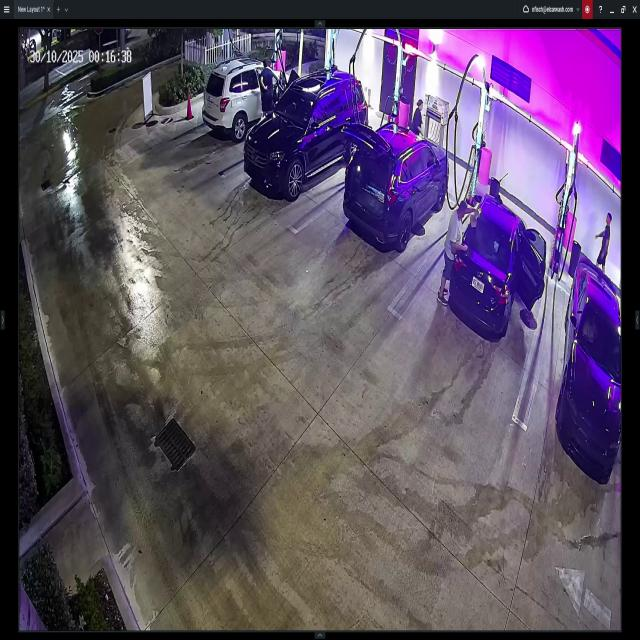Car: (244, 63, 364, 200), (559, 261, 622, 477), (452, 196, 546, 338), (348, 116, 446, 244), (208, 66, 296, 140)
